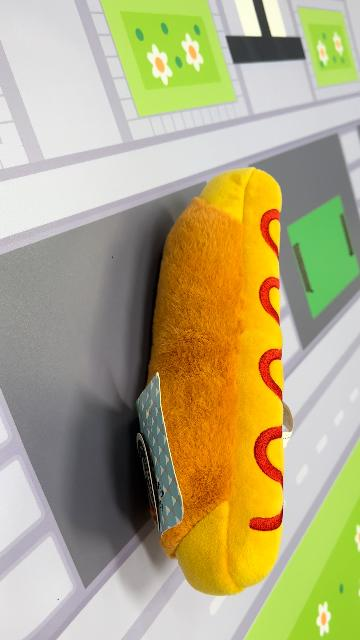hotdog: (135, 167, 287, 598)
